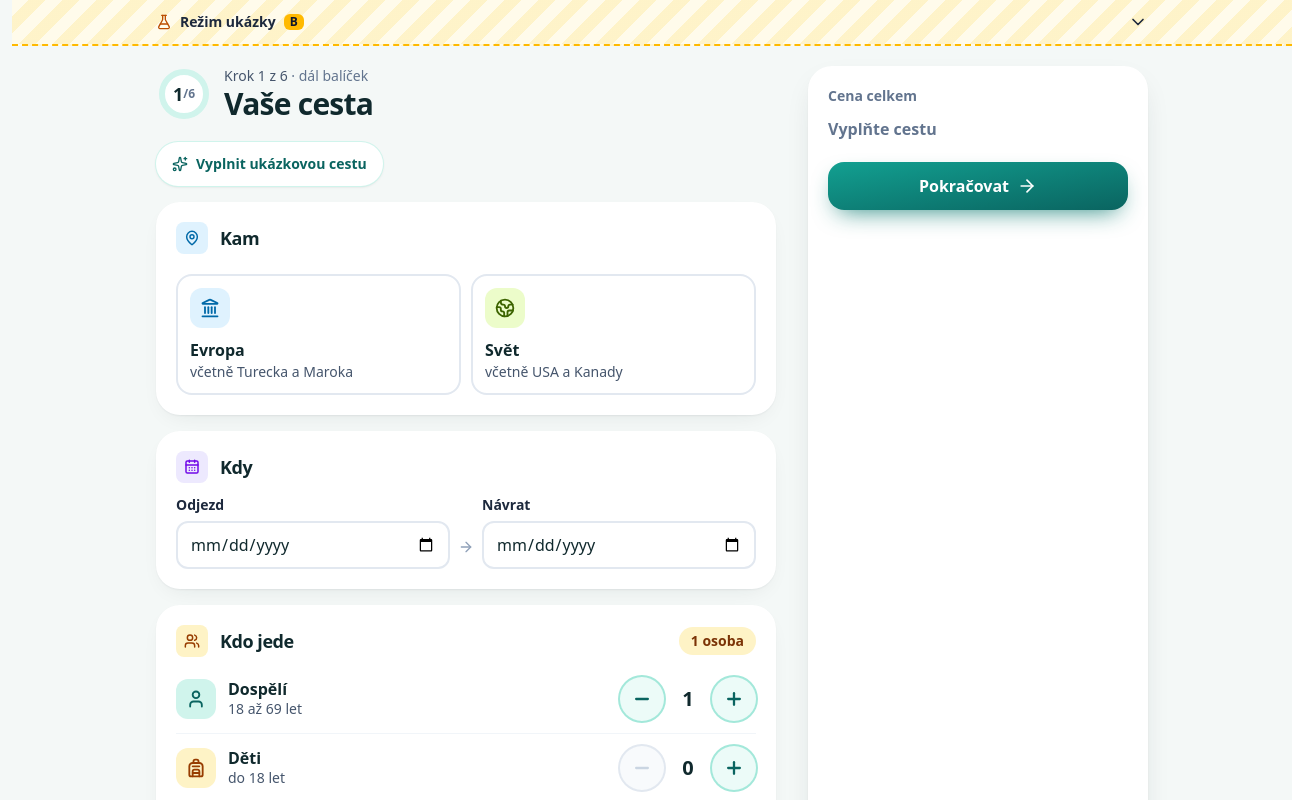
Test: DebugBar › vynutí segment manažera a vynucení zase zruší
Click the button "Režim ukázky B".
click(228, 22)  # box [156,0,1148,44]
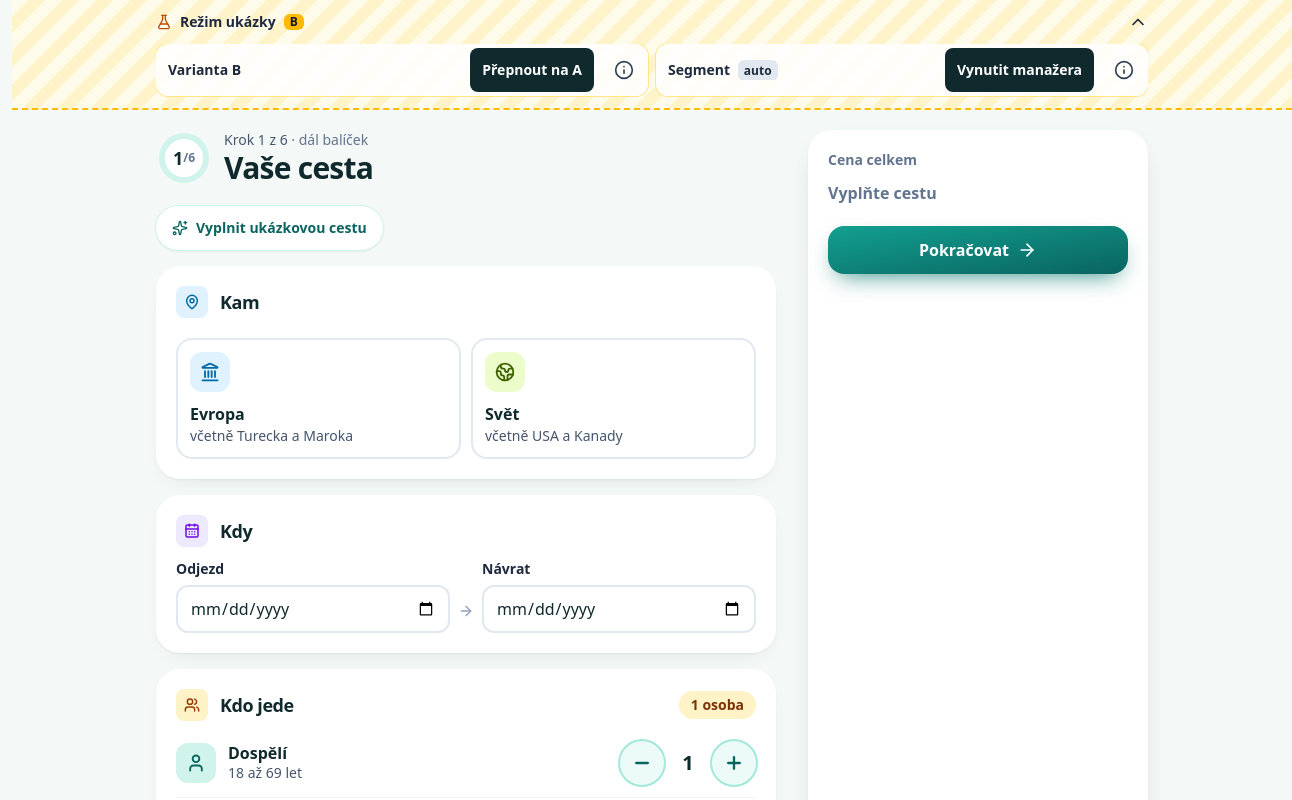
Click the button "Vynutit manažera".
click(1020, 70)  # box [945,48,1094,92]
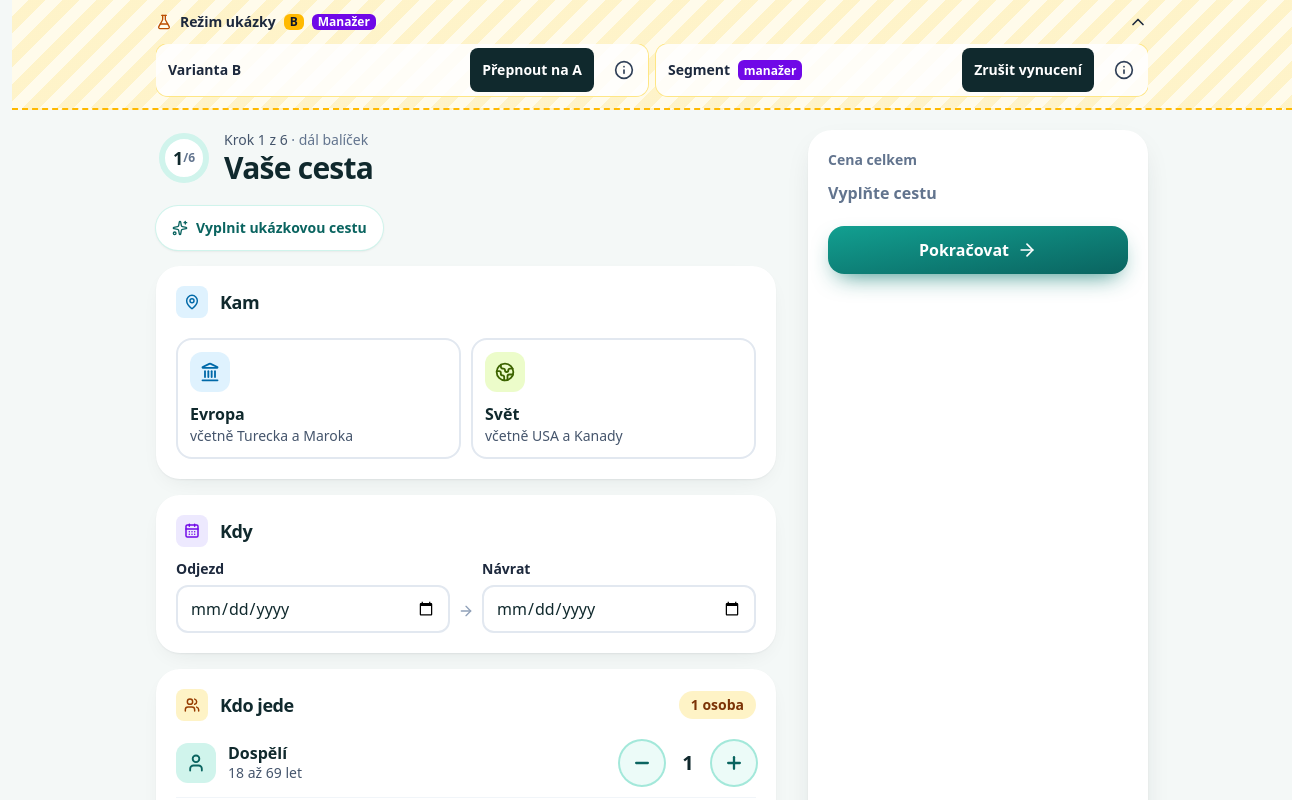
Now the text "manažer" is shown, box [738,60,802,80]
Click the button "Zrušit vynucení".
click(1028, 70)  # box [962,48,1094,92]
(page scrolled)
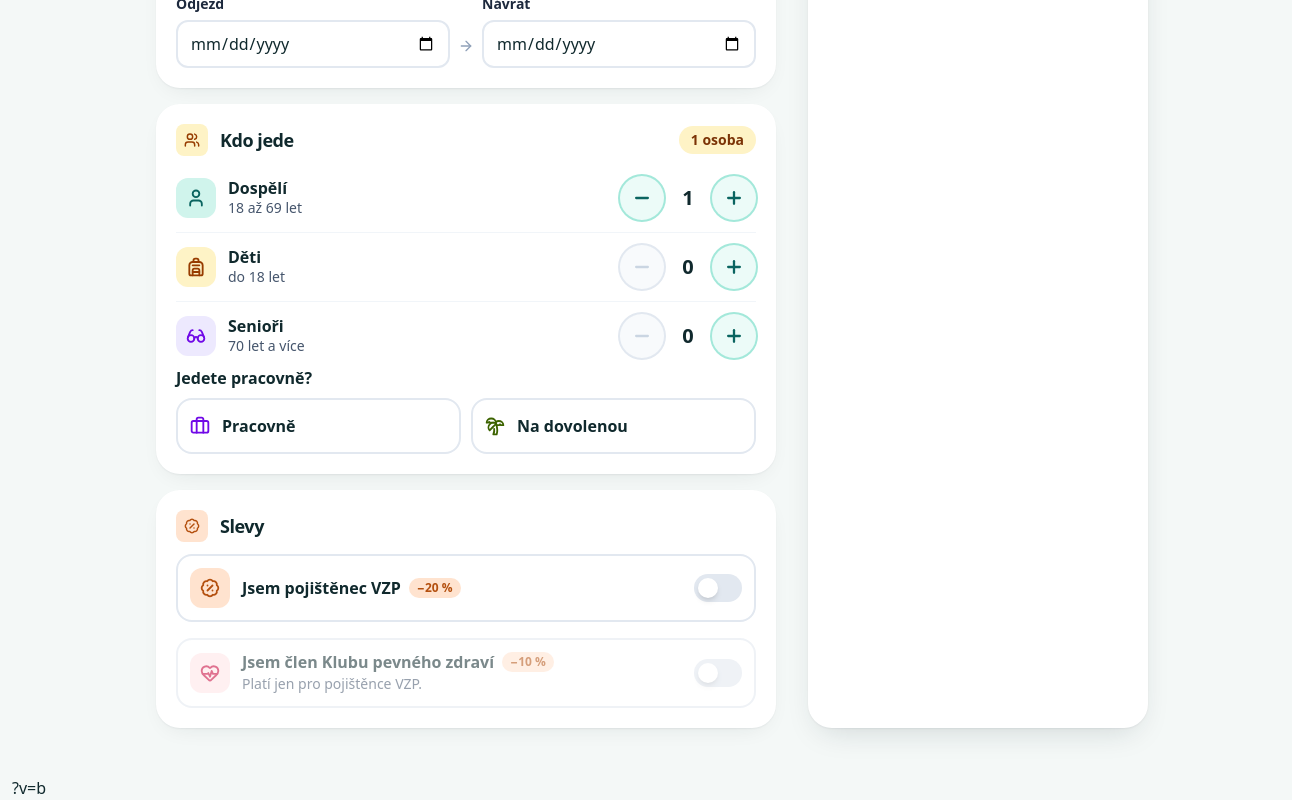
Now the text with test id "search" reads "?v=b", box [12,777,46,799]
